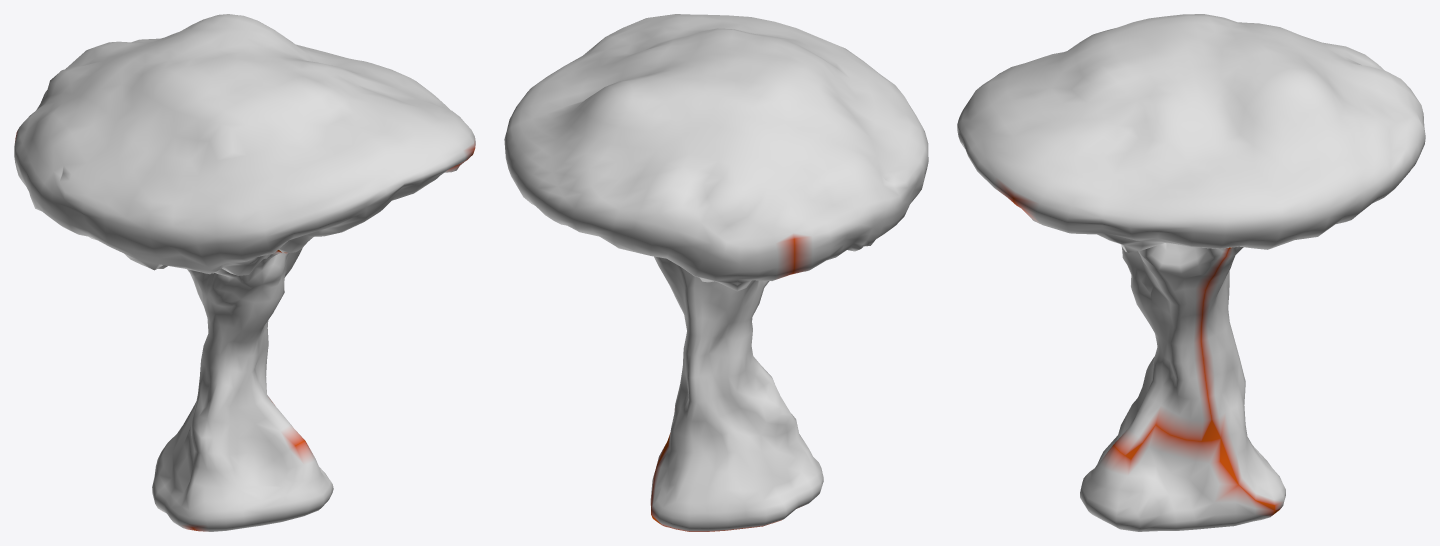
The model's file is New_mushy_low.fbx.
The picture shows the model from 3 angles, left to right: view 1: azimuth 30°, elevation 25°; view 2: azimuth 150°, elevation 25°; view 3: azimuth 270°, elevation 25°; orthographic projection. The views are drawn at different scales.
Visible parts, largest first — view 1: UMesh_cube_NewUVs2_SeamsColor; view 2: UMesh_cube_NewUVs2_SeamsColor; view 3: UMesh_cube_NewUVs2_SeamsColor.
Boxes of the visible parts, x1=… form: UMesh_cube_NewUVs2_SeamsColor: x1=14, y1=14, x2=475, y2=531; UMesh_cube_NewUVs2_SeamsColor: x1=504, y1=14, x2=928, y2=531; UMesh_cube_NewUVs2_SeamsColor: x1=957, y1=14, x2=1425, y2=531.
Size of the model in its own units: 1.9 by 2.16 by 1.95.
